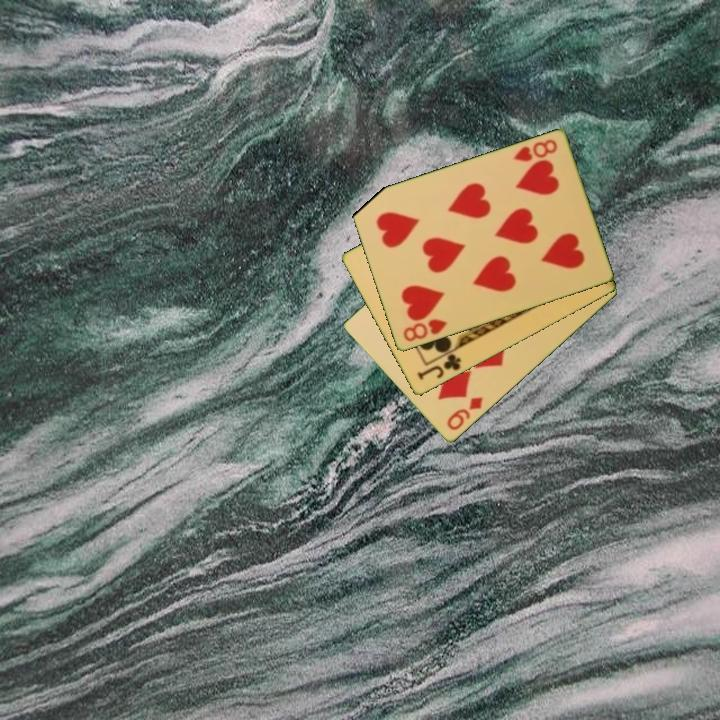8h: (399, 316, 450, 345), (510, 136, 560, 165)
9d: (443, 393, 486, 434)
Jc: (413, 346, 464, 383)
